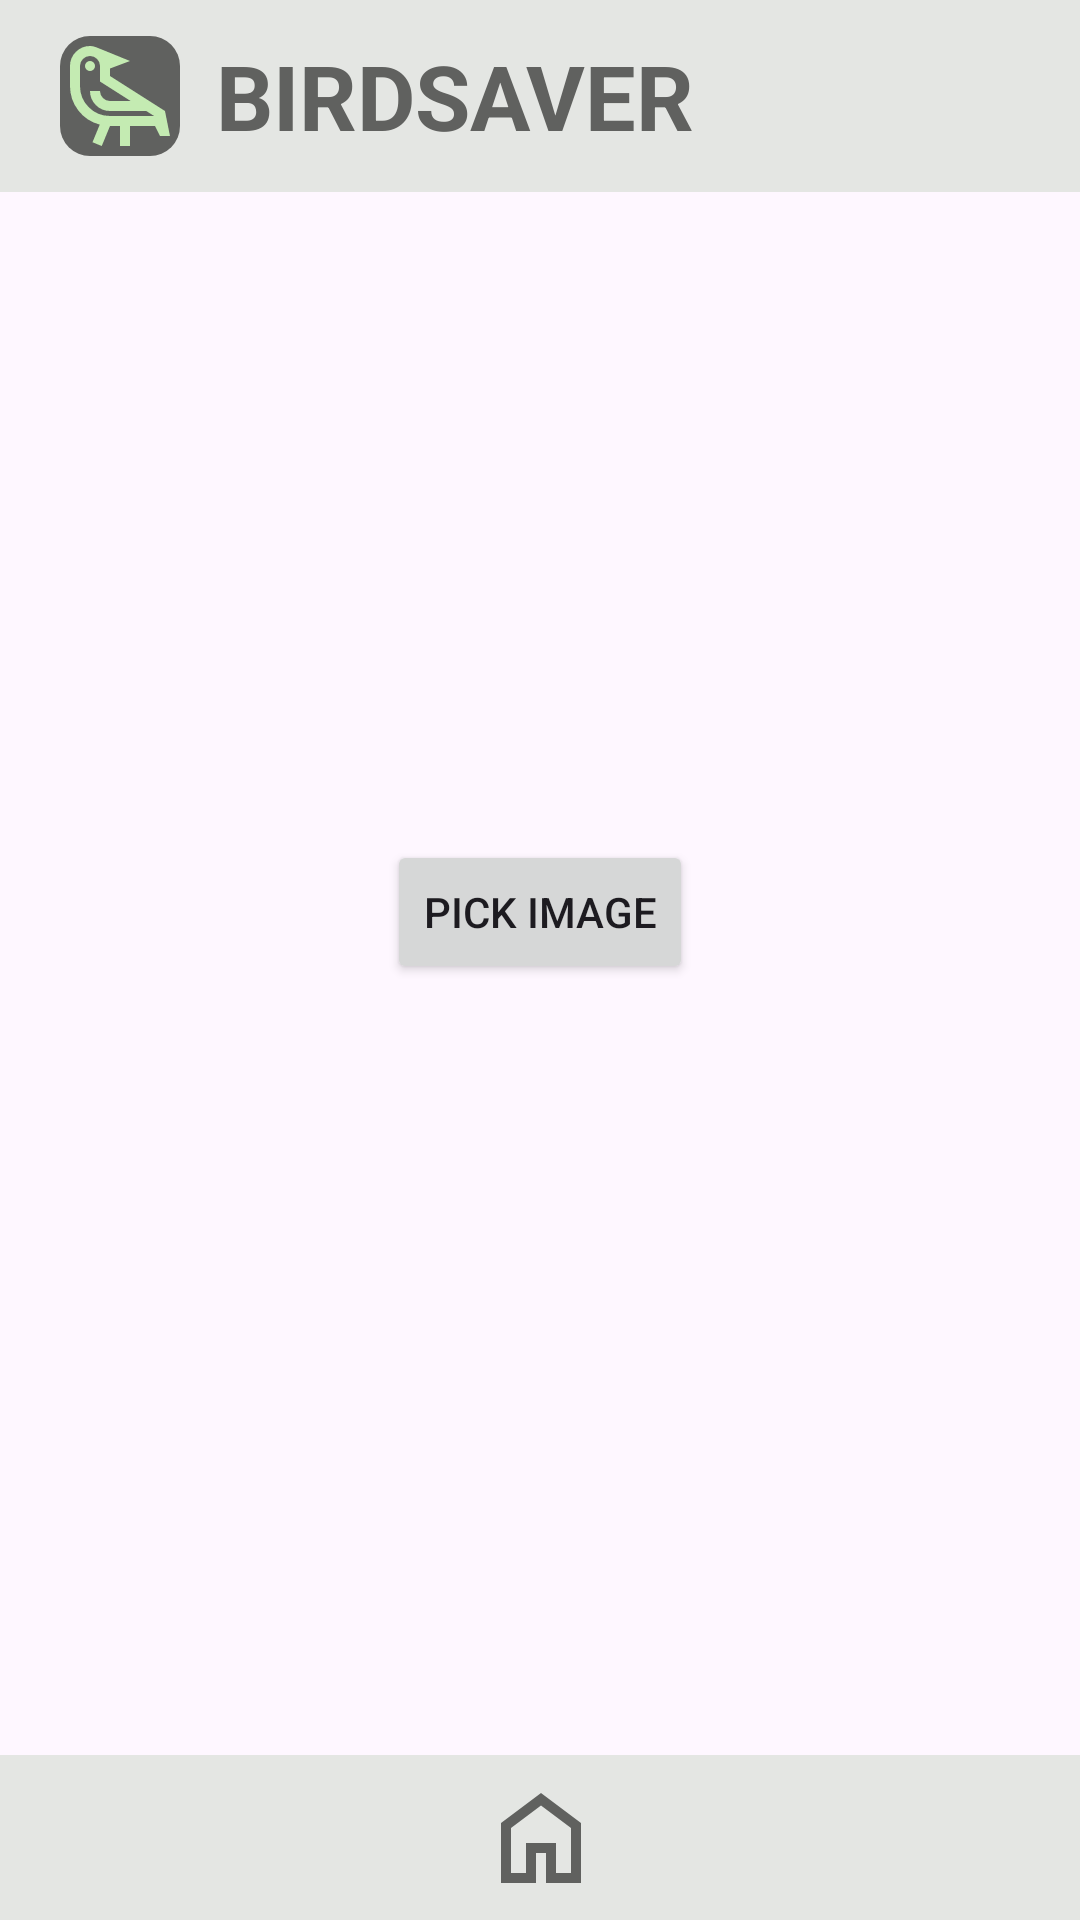

Icons on this 1080×1920 Android screen, each with its box as (x1, y1, x2, y2):
Home: (501, 1793, 581, 1883)
raven: (60, 36, 180, 156)
